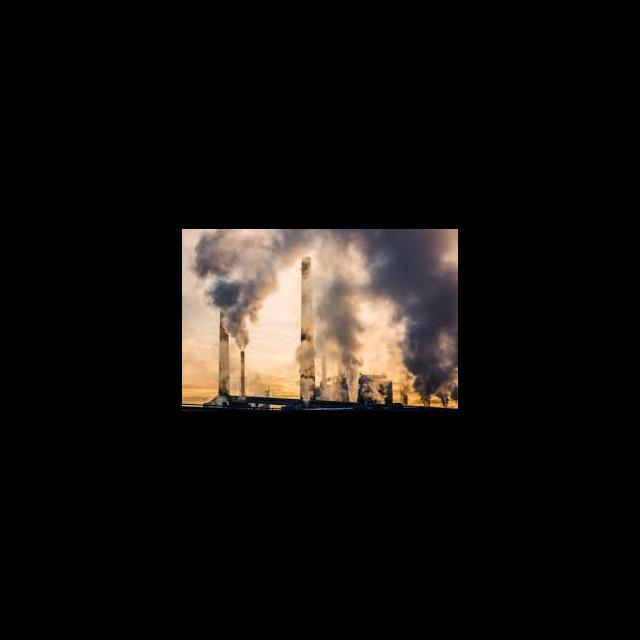Smoke: (199, 236, 282, 343), (416, 230, 457, 373), (317, 264, 363, 370), (372, 234, 412, 300), (365, 379, 387, 404), (215, 396, 222, 405)
